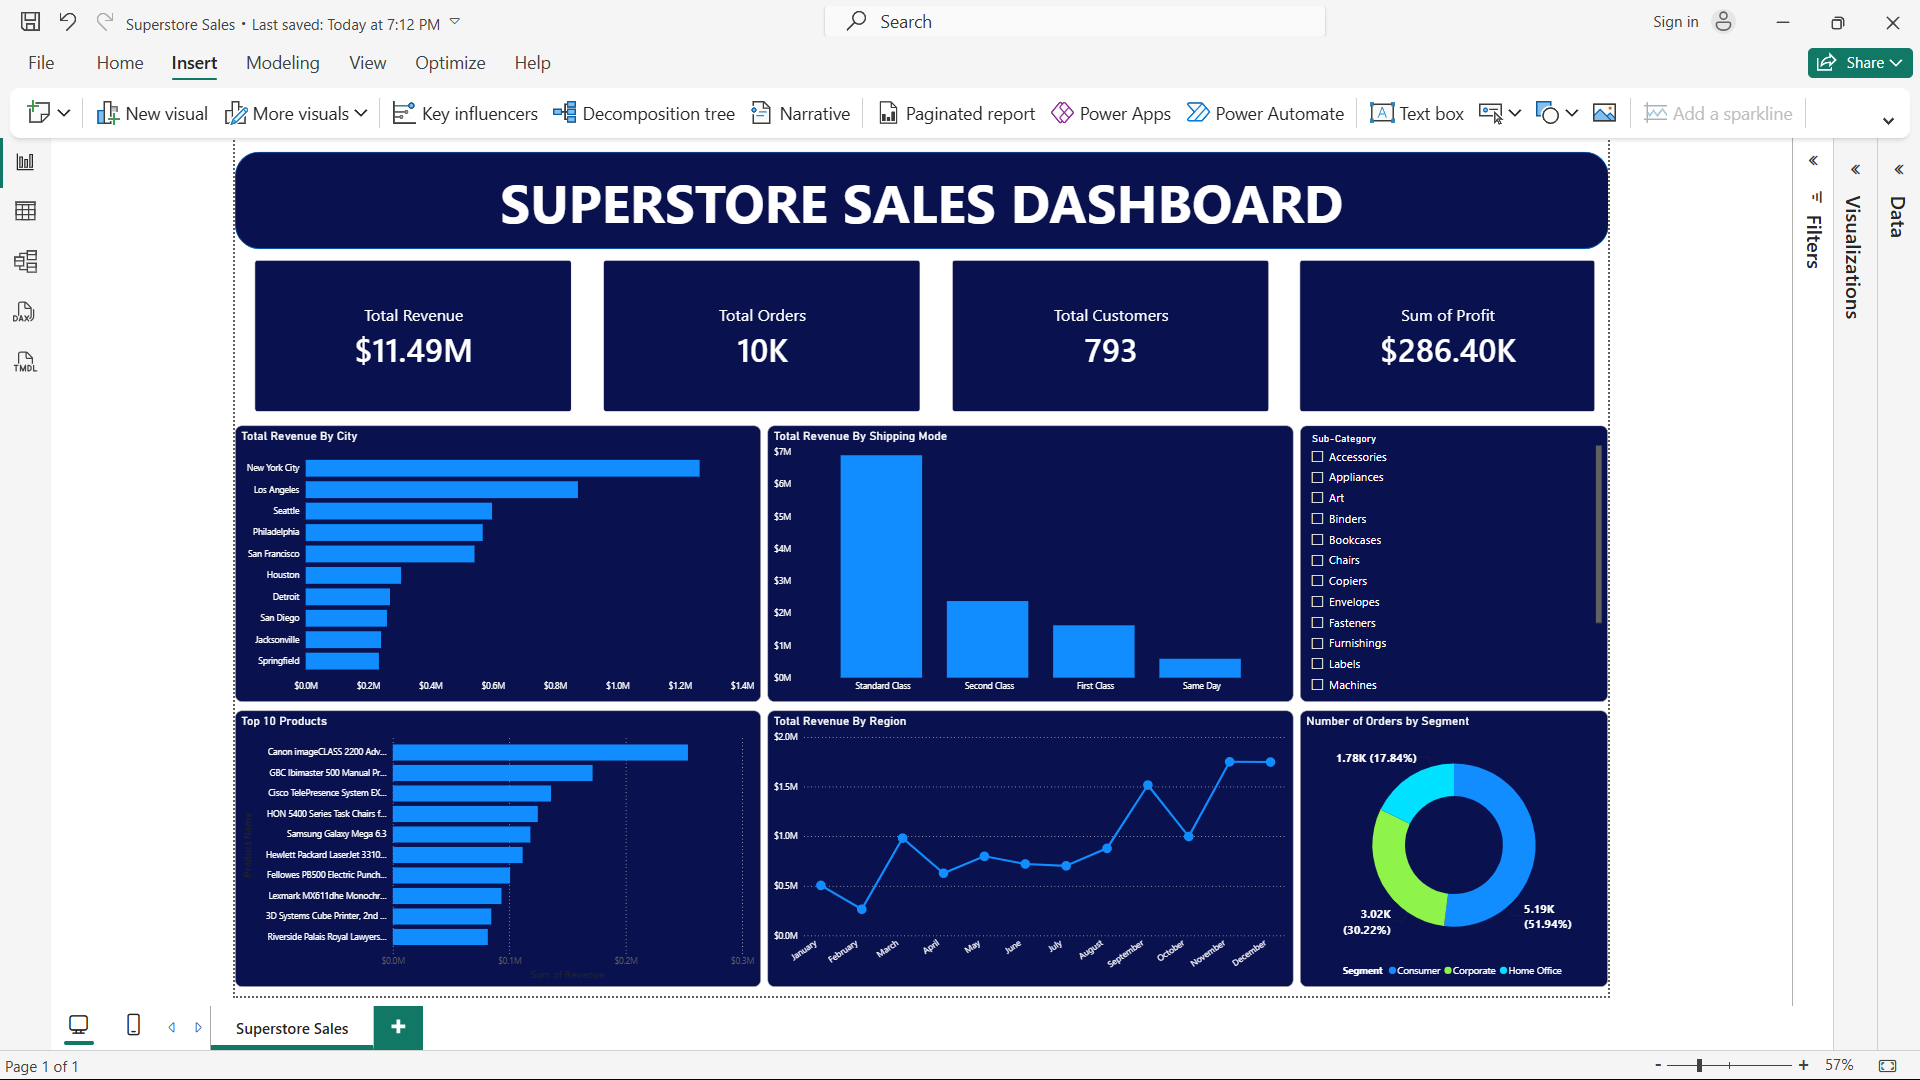

What the dashboard file says about the page in this screenshot:
{"tool":"powerbi","page":{"name":"Superstore Sales","canvas":[1920,1200],"ordinal":0},"visuals":[{"type":"cardVisual","fields":{"Data":["Sum(Sample - Superstore.Revenue)"]},"box":[10.2,154.3,477,246],"z":0},{"type":"cardVisual","fields":{"Data":["Count(Sample - Superstore.Customer ID)"]},"box":[984.9,154.3,477,246],"z":1000},{"type":"cardVisual","fields":{"Data":["CountNonNull(Sample - Superstore.Order ID)"]},"box":[497.6,154.3,477,246],"z":2000},{"type":"cardVisual","fields":{"Data":["Sum(Sample - Superstore.Profit)"]},"box":[1472,153.8,448,247],"z":3000},{"type":"barChart","title":"Total Revenue By City","fields":{"Y":["Sum(Sample - Superstore.Revenue)"],"Category":["Sample - Superstore.City"]},"box":[0,402,735.2,386.7],"z":4000},{"type":"barChart","title":"Top 10 Products","fields":{"Category":["Sample - Superstore.Product Name"],"Y":["Sum(Sample - Superstore.Revenue)"]},"box":[0,799.5,735.2,386.7],"z":5000},{"type":"columnChart","title":"Total Revenue By Shipping Mode","fields":{"Category":["Sample - Superstore.Ship Mode"],"Y":["Sum(Sample - Superstore.Revenue)"]},"box":[744.7,402,735.2,386.7],"z":6000},{"type":"lineChart","title":"Total Revenue By Region","fields":{"Category":["Sample - Superstore.Order Date.Variation.Date Hierarchy.Month"],"Y":["Sum(Sample - Superstore.Revenue)"]},"box":[744.7,800.3,735.2,386.7],"z":7000},{"type":"donutChart","title":"Number of Orders by Segment","fields":{"Category":["Sample - Superstore.Segment"],"Y":["CountNonNull(Sample - Superstore.Order ID)"]},"box":[1489.5,800.3,430.8,386.7],"z":9000},{"type":"slicer","fields":{"Values":["Sample - Superstore.Sub-Category"]},"box":[1489.2,402,430.8,386.7],"z":10000},{"type":"shape","title":"SUPERSTORE SALES DASHBOARD","box":[0,19.1,1920.2,135.9],"z":10001}]}

Visuals, with their boxes on the page's 1920x1200 design canvas (x1, y1, x2, y2). These are canvas units, not pixel positions in the 1920x1080 screenshot, which may show the page scaled, cropped or inside an application window:
cardVisual - Sum(Sample - Superstore.Revenue): detection(10, 154, 487, 400)
cardVisual - Count(Sample - Superstore.Customer ID): detection(985, 154, 1462, 400)
cardVisual - CountNonNull(Sample - Superstore.Order ID): detection(498, 154, 975, 400)
cardVisual - Sum(Sample - Superstore.Profit): detection(1472, 154, 1920, 401)
"Total Revenue By City" barChart: detection(0, 402, 735, 789)
"Top 10 Products" barChart: detection(0, 800, 735, 1186)
"Total Revenue By Shipping Mode" columnChart: detection(745, 402, 1480, 789)
"Total Revenue By Region" lineChart: detection(745, 800, 1480, 1187)
"Number of Orders by Segment" donutChart: detection(1490, 800, 1920, 1187)
slicer - Sample - Superstore.Sub-Category: detection(1489, 402, 1920, 789)
"SUPERSTORE SALES DASHBOARD" shape: detection(0, 19, 1920, 155)
